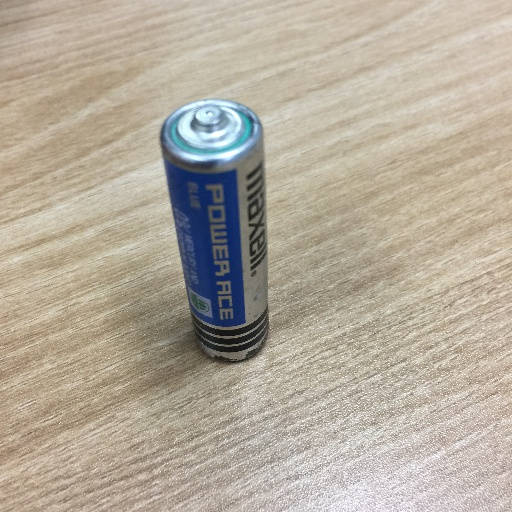Battery_0: (146, 76, 296, 374)
